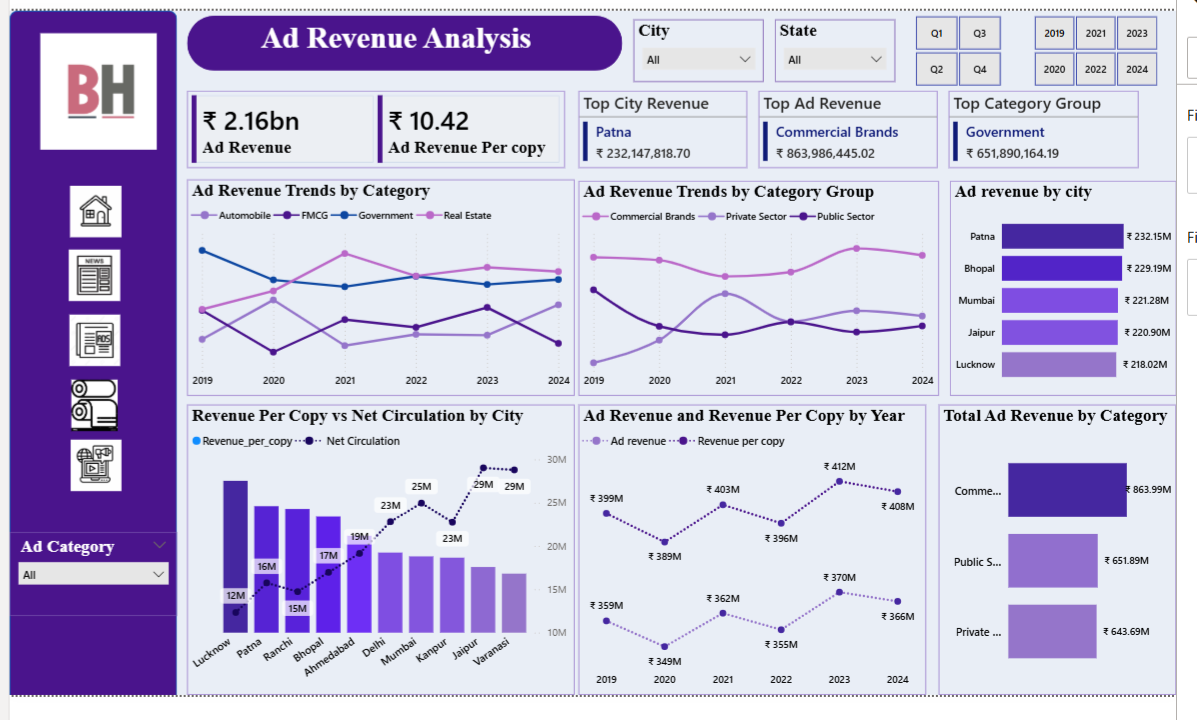

Layout of this report page (visuals, bound fields, positions):
{"tool":"powerbi","page":{"name":"AD Revenue Insights ","canvas":[1450,850],"ordinal":2},"visuals":[{"type":"shape","box":[220.7,6.2,541,68.4],"z":0},{"type":"cardVisual","fields":{"Data":["Sum(fact_ad_revenue.Ad revenue)","Query1.ad revenue per copy"]},"box":[220.7,99.5,469.4,96.4],"z":1000},{"type":"shape","box":[0,0,208.1,900.3],"z":2000},{"type":"textbox","box":[233.2,6.2,503.6,68.4],"z":3000},{"type":"lineChart","title":"Ad Revenue Trends by Category","fields":{"Y":["fact_ad_revenue.total ad_revenue"],"Series":["dim_ad_category_.standard_ad_category"],"Category":["dim_date.Date.Variation.Date Hierarchy.Year"]},"box":[220.7,209.9,481.9,268.9],"z":4000},{"type":"lineChart","title":"Ad Revenue Trends by Category Group","fields":{"Y":["Sum(fact_ad_revenue.Ad revenue)"],"Series":["dim_ad_category_.category_group"],"Category":["dim_date.Date.Variation.Date Hierarchy.Year"]},"box":[707.3,211.4,447.7,267.4],"z":5000},{"type":"lineChart","title":"Ad Revenue and Revenue Per Copy by Year","fields":{"Category":["fact_ad_revenue.year"],"Y":["Sum(fact_ad_revenue.Ad revenue)","fact_ad_revenue.revnu_pr_opy"]},"box":[707.3,489.7,432.1,360.6],"z":6000},{"type":"lineStackedColumnComboChart","title":"Revenue Per Copy vs Net Circulation by City","fields":{"Category":["dim_city.city"],"Y":["fact_ad_revenue.revenue_pr_copy"],"Y2":["Sum(fact_print_sales.Net_Circulation)"]},"box":[220.7,489.7,481.9,360.6],"z":7000},{"type":"barChart","fields":{"Category":["dim_city.city"],"Y":["Sum(fact_ad_revenue.Ad revenue)"]},"box":[1169,211.4,281.4,267.4],"z":8000},{"type":"clusteredBarChart","title":"Total Ad Revenue by Category","fields":{"Y":["Sum(fact_ad_revenue.Ad revenue)"],"Category":["dim_ad_category_.category_group"]},"box":[1155,489.7,295.3,360.6],"z":9000},{"type":"slicer","fields":{"Values":["dim_date.Date.Variation.Date Hierarchy.Year"]},"box":[1248.2,0,202.1,99.5],"z":11000},{"type":"slicer","fields":{"Values":["dim_date.quarter"]},"box":[1100.6,0,155.4,99.5],"z":12000},{"type":"multiRowCard","title":"Top City Revenue ","fields":{"Values":["dim_city.city","Sum(fact_ad_revenue.Ad revenue)"]},"box":[707.3,99.5,209.9,96.4],"z":13000},{"type":"multiRowCard","title":"Top Ad Revenue ","fields":{"Values":["Sum(fact_ad_revenue.Ad revenue)","dim_ad_category_.category_group"]},"box":[931.1,99.5,222.3,96.4],"z":14000},{"type":"multiRowCard","title":"Top Category Group ","fields":{"Values":["Sum(fact_ad_revenue.Ad revenue)","dim_ad_category_.standard_ad_category"]},"box":[1167.4,99.5,236.3,96.4],"z":15000},{"type":"slicer","title":"City","fields":{"Values":["dim_city.city"]},"box":[775.7,10.9,161.7,77.7],"z":16000},{"type":"slicer","title":"State ","fields":{"Values":["dim_city.state"]},"box":[951.3,10.9,149.2,77.7],"z":17000},{"type":"image","box":[57.5,217.6,99.5,63.7],"z":17001},{"type":"image","box":[56,296.9,99.5,63.7],"z":17002},{"type":"image","box":[56,377.7,100,63.7],"z":17003},{"type":"image","box":[56,458.6,99.5,63.7],"z":17004},{"type":"image","box":[57.5,533.2,100,63.7],"z":17005},{"type":"slicer","fields":{"Values":["dim_ad_category_.standard_ad_category"]},"box":[0,648.2,208.3,104.1],"z":17006},{"type":"image","box":[7.8,28,205.2,144.6],"z":17007}]}

Visuals, with their boxes in screenshot pixels (x1, y1, x2, y2), scaled from the page's 1450x850 canvas onto the 1197x720 screenshot:
shape: rect(182, 5, 629, 63)
cardVisual - Sum(fact_ad_revenue.Ad revenue) x Query1.ad revenue per copy: rect(182, 84, 570, 166)
shape: rect(0, 0, 172, 719)
textbox: rect(193, 5, 608, 63)
"Ad Revenue Trends by Category" lineChart: rect(182, 178, 580, 406)
"Ad Revenue Trends by Category Group" lineChart: rect(584, 179, 953, 406)
"Ad Revenue and Revenue Per Copy by Year" lineChart: rect(584, 415, 941, 719)
"Revenue Per Copy vs Net Circulation by City" lineStackedColumnComboChart: rect(182, 415, 580, 719)
barChart - dim_city.city x Sum(fact_ad_revenue.Ad revenue): rect(965, 179, 1196, 406)
"Total Ad Revenue by Category" clusteredBarChart: rect(953, 415, 1196, 719)
slicer - dim_date.Date.Variation.Date Hierarchy.Year: rect(1030, 0, 1196, 84)
slicer - dim_date.quarter: rect(909, 0, 1037, 84)
"Top City Revenue " multiRowCard: rect(584, 84, 757, 166)
"Top Ad Revenue " multiRowCard: rect(769, 84, 952, 166)
"Top Category Group " multiRowCard: rect(964, 84, 1159, 166)
"City" slicer: rect(640, 9, 774, 75)
"State " slicer: rect(785, 9, 908, 75)
image: rect(47, 184, 130, 238)
image: rect(46, 251, 128, 305)
image: rect(46, 320, 129, 374)
image: rect(46, 388, 128, 442)
image: rect(47, 452, 130, 506)
slicer - dim_ad_category_.standard_ad_category: rect(0, 549, 172, 637)
image: rect(6, 24, 176, 146)
